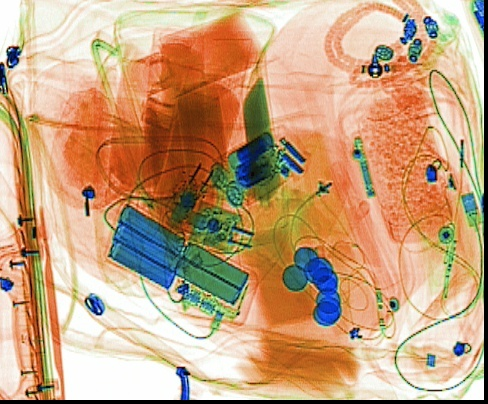powerbank: (100, 197, 258, 326)
